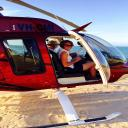helicopter: (1, 8, 127, 125)
